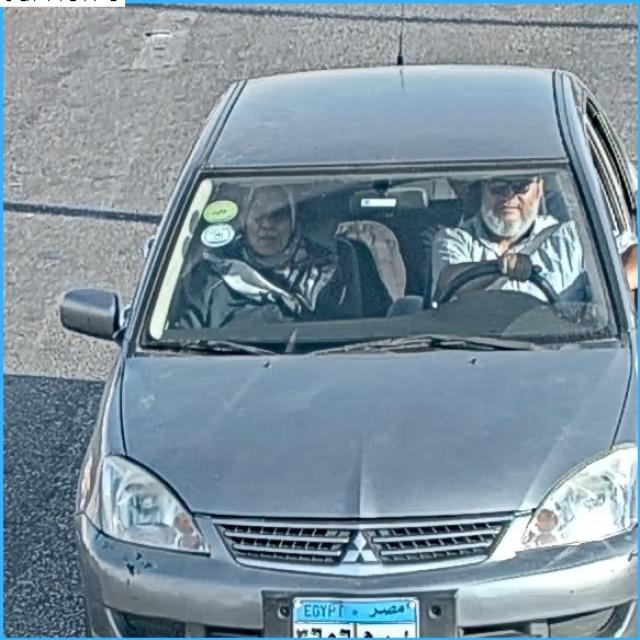windshield: (143, 176, 622, 347)
